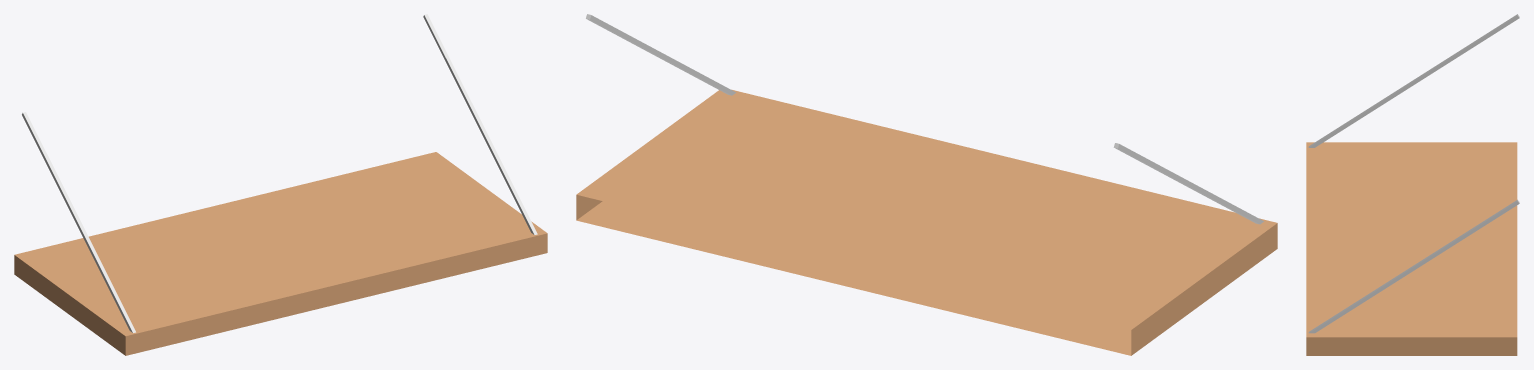
The model's file is Shelve.3.fbx.
The picture shows the model from 3 angles, left to right: view 1: azimuth 30°, elevation 25°; view 2: azimuth 150°, elevation 25°; view 3: azimuth 270°, elevation 25°; orthographic projection. The views are drawn at different scales.
Parts seen in each view (by area): view 1: Shelf.3; view 2: Shelf.3; view 3: Shelf.3.
Boxes of the visible parts, x1,y1,x2,y2 form: Shelf.3: [14, 14, 547, 355]; Shelf.3: [576, 14, 1277, 355]; Shelf.3: [1306, 14, 1519, 355].
Bounding box in the file's own units: 438 × 158 × 202.
